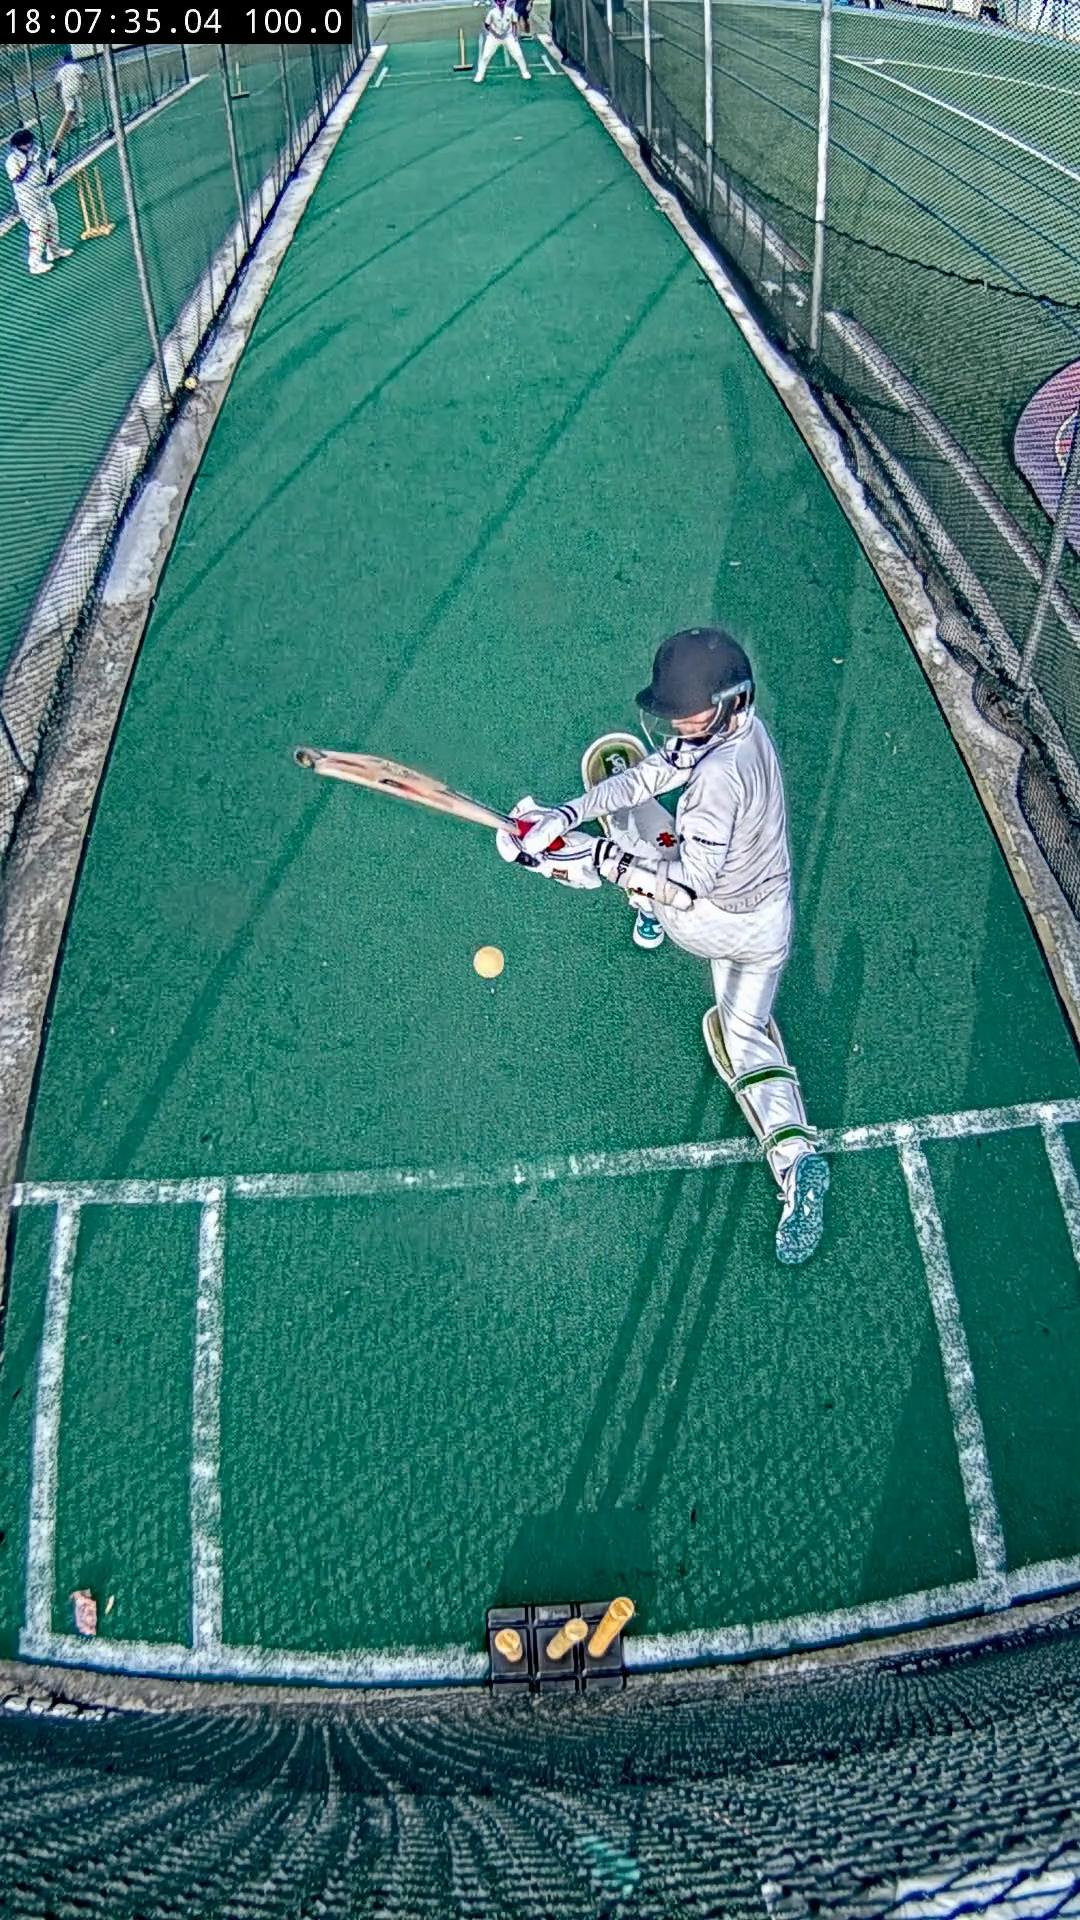ball: (472, 945, 502, 978)
bat: (293, 746, 514, 828)
gloves: (495, 799, 600, 889)
helmet: (637, 622, 754, 705)
pads: (578, 732, 641, 777)
stumps: (488, 1597, 634, 1692)
